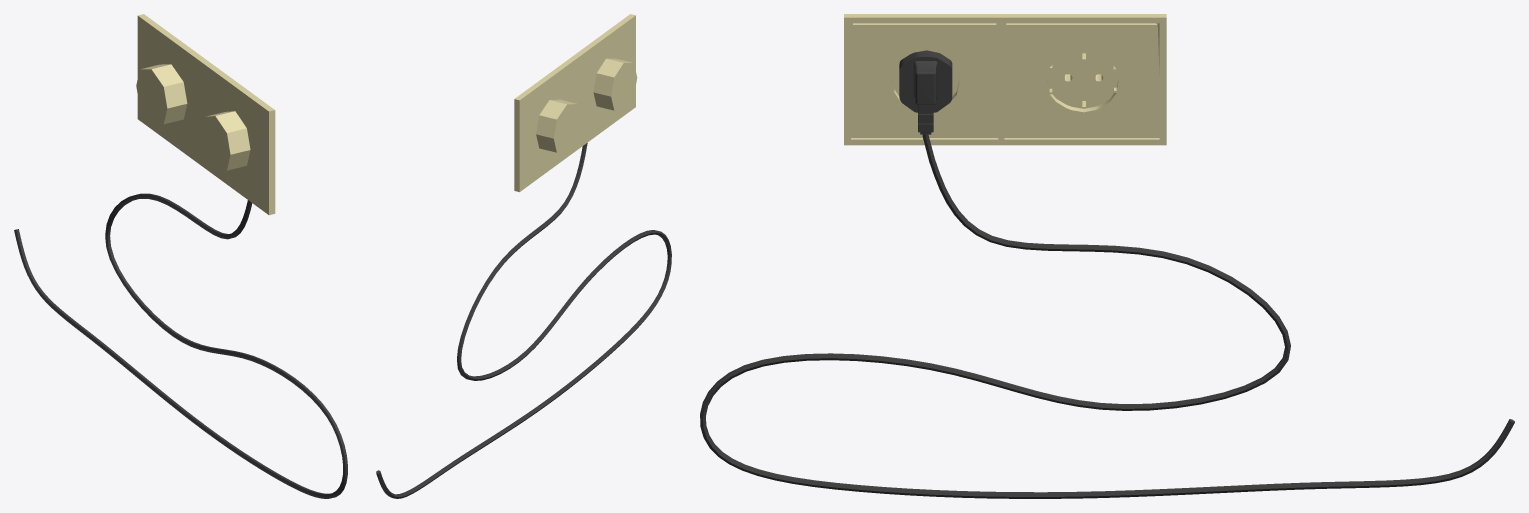
3 renders of one model, left to right at view 1: azimuth 30°, elevation 25°; view 2: azimuth 150°, elevation 25°; view 3: azimuth 270°, elevation 25°, orthographic. The views are drawn at different scales.
Parts seen in each view (by area): view 1: pCube5, pCylinder3; view 2: pCube5, pCylinder3; view 3: pCube5, pCylinder3, pCylinder1, pCube4.
Part boxes in pixels (x1,y1,x2,y2): pCube5: (136, 14, 275, 215); pCylinder3: (14, 193, 347, 498); pCube5: (514, 14, 637, 192); pCylinder3: (376, 143, 671, 498); pCube5: (844, 14, 1166, 145); pCylinder3: (700, 134, 1514, 498); pCylinder1: (899, 50, 952, 112); pCube4: (913, 61, 937, 134).
Bounding box in the file's own units: 21.75 × 170 × 265.
